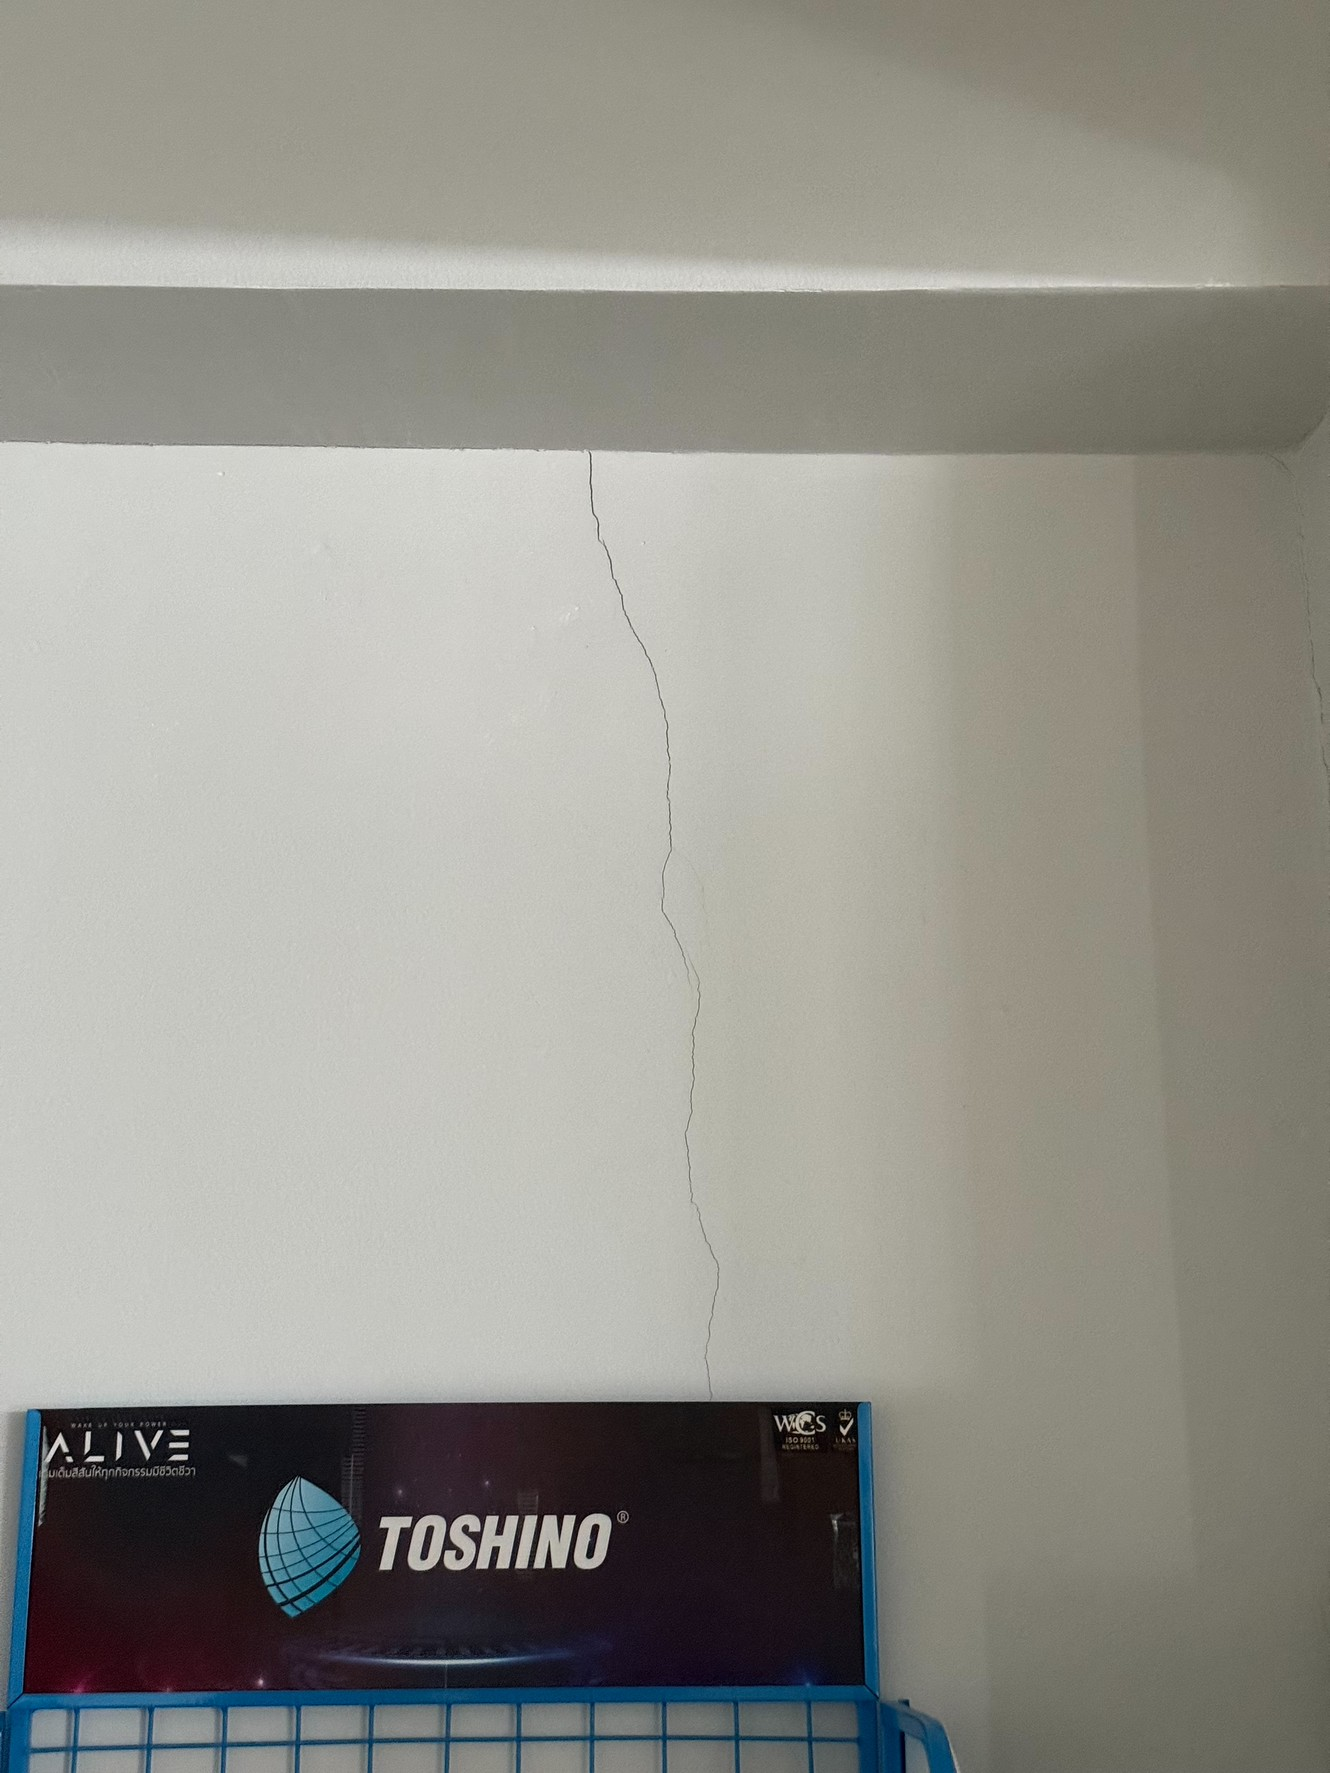Low: (564, 439, 782, 1404)
